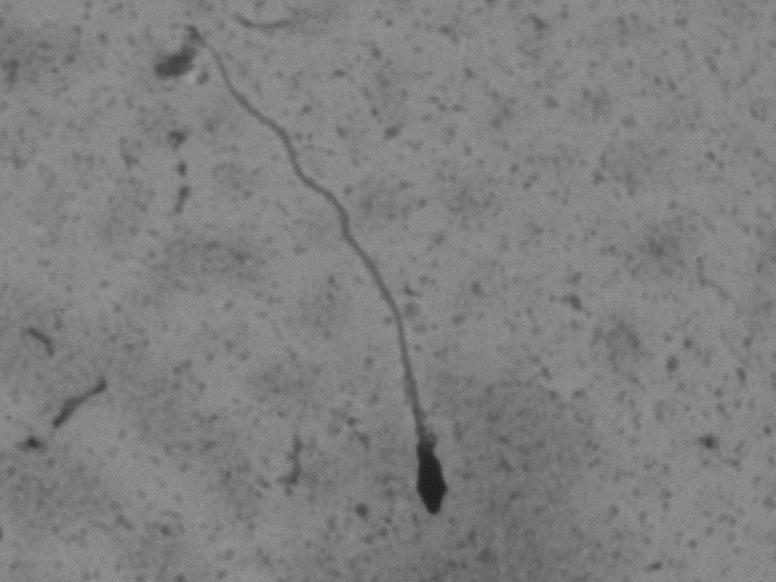Abnormal: (155, 19, 469, 538)
